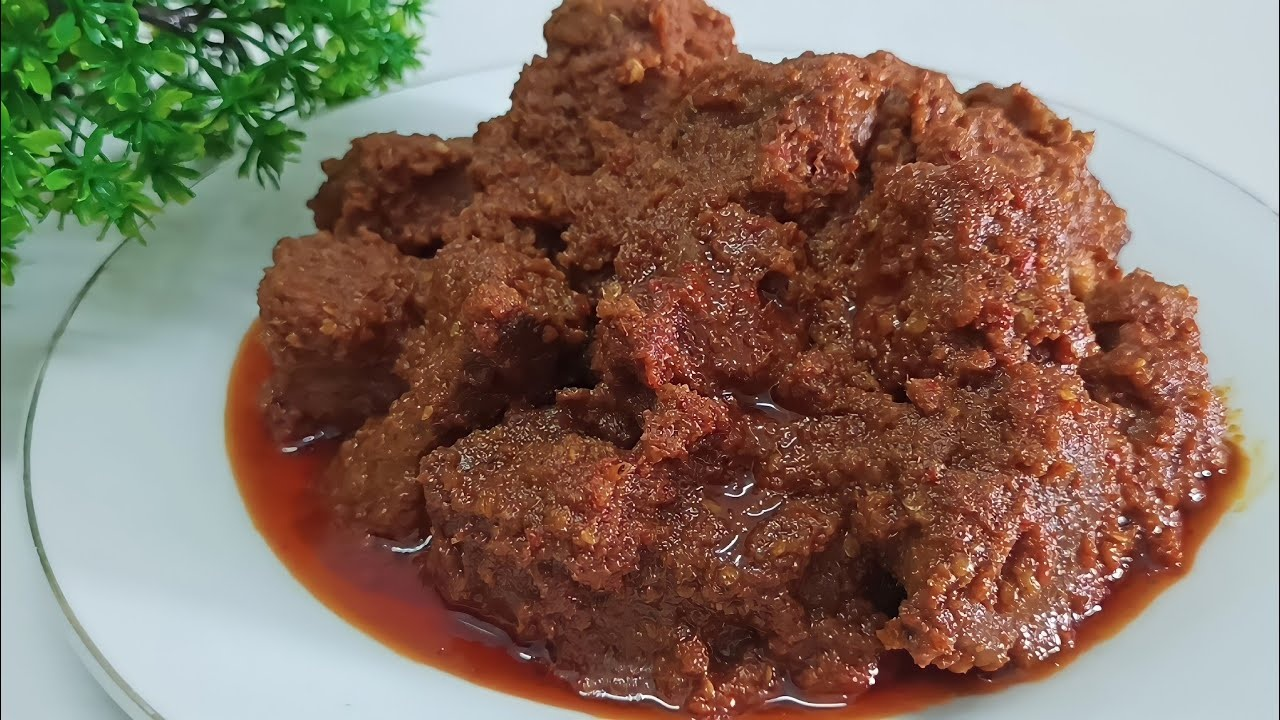rendang: (303, 4, 1229, 685)
